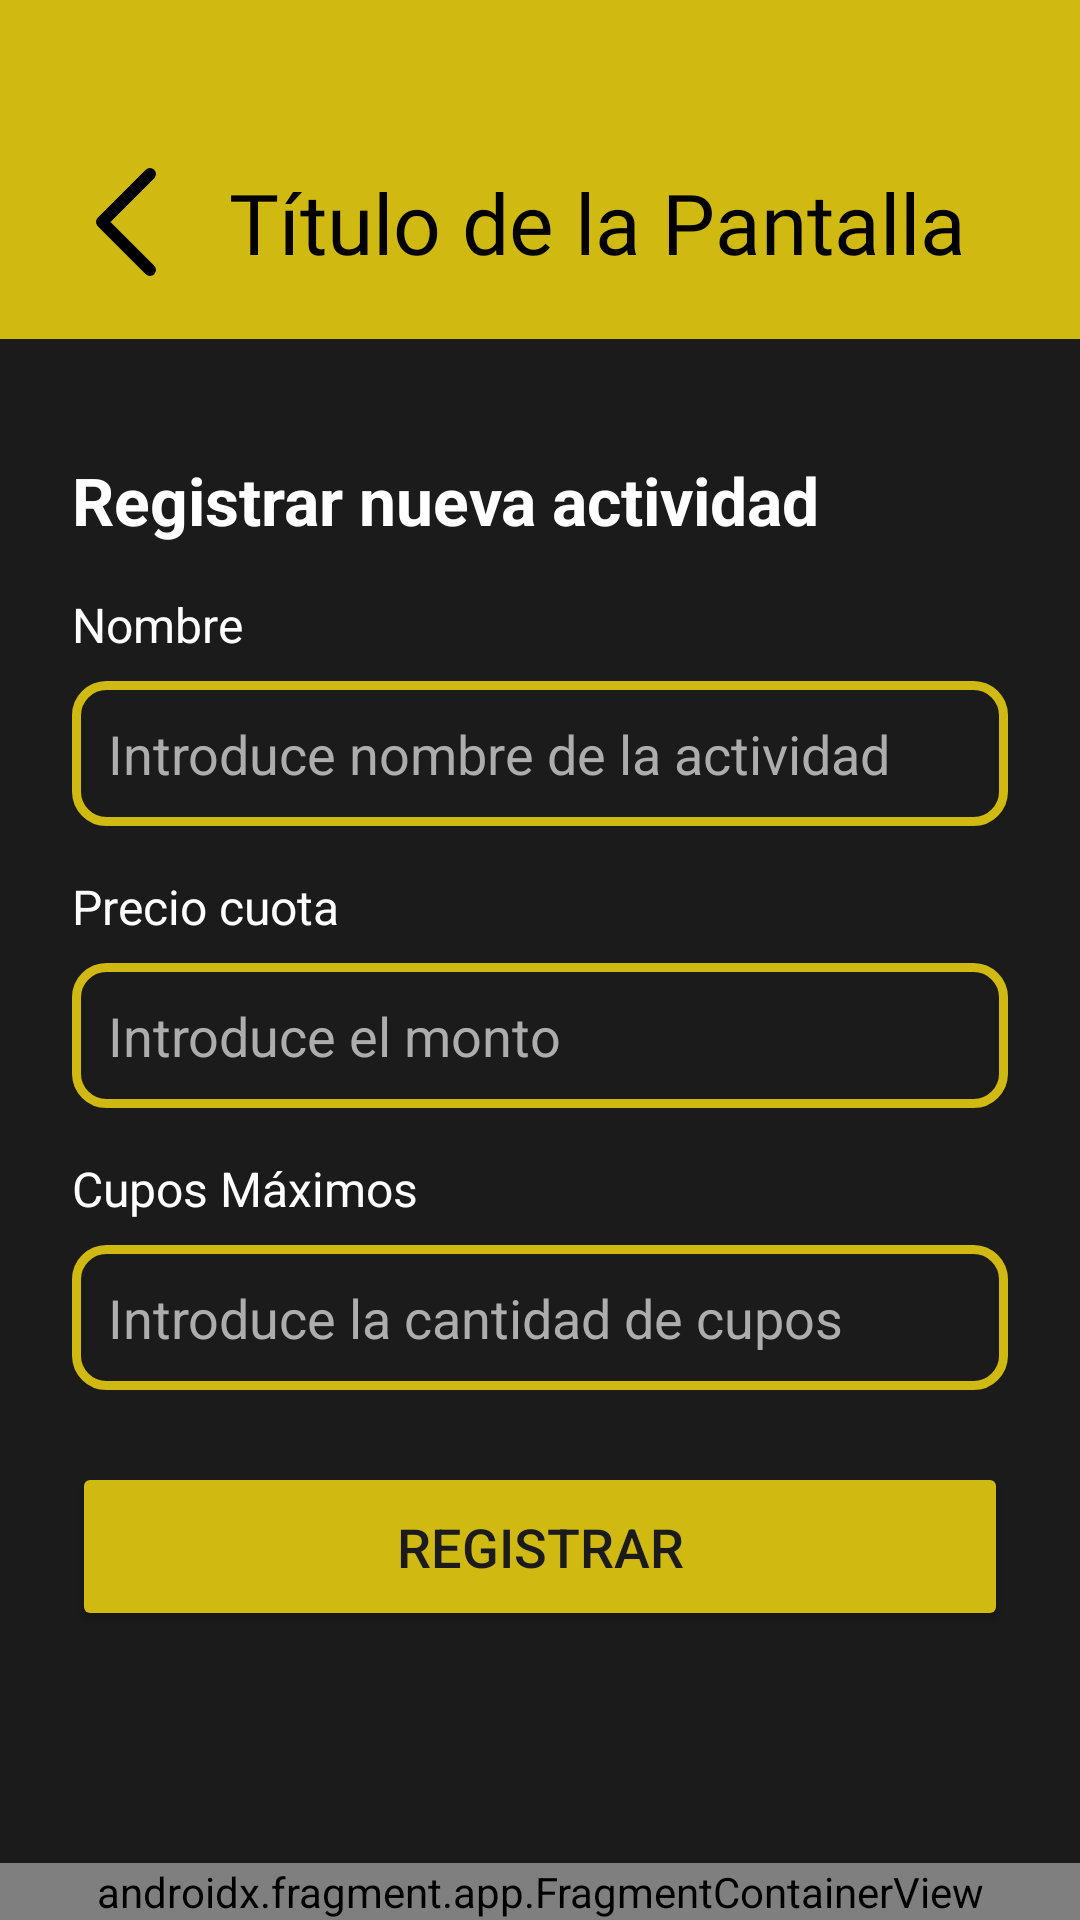

Screen size 1080×1920. Icon name, then its center in pixels as [x,y]:
atras: [126,222]
